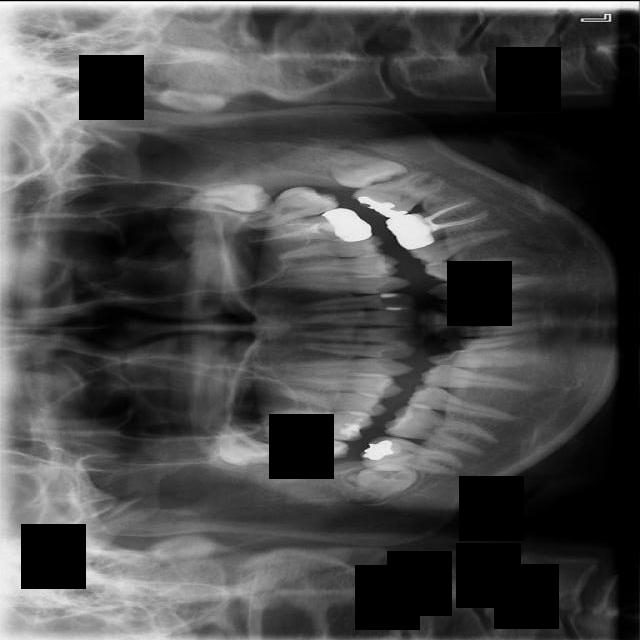3M ESPE Implant: (207, 422, 286, 480)
52: (384, 204, 436, 257), (356, 188, 409, 224), (321, 207, 372, 241), (360, 438, 396, 463), (338, 417, 366, 438), (380, 292, 398, 297), (386, 306, 402, 309)
73: (413, 192, 498, 245), (246, 214, 331, 245), (587, 66, 593, 70)
BioHorizons Implant: (237, 176, 341, 234)
BioLife Implant: (189, 183, 271, 210)
Biomet 3i Implant: (308, 140, 409, 200)
Blue Sky Bio Implant: (350, 164, 453, 228)
Caries: (233, 416, 351, 473)
Implant: (359, 433, 465, 476)
Keystone Dental Implant: (346, 456, 423, 505)
